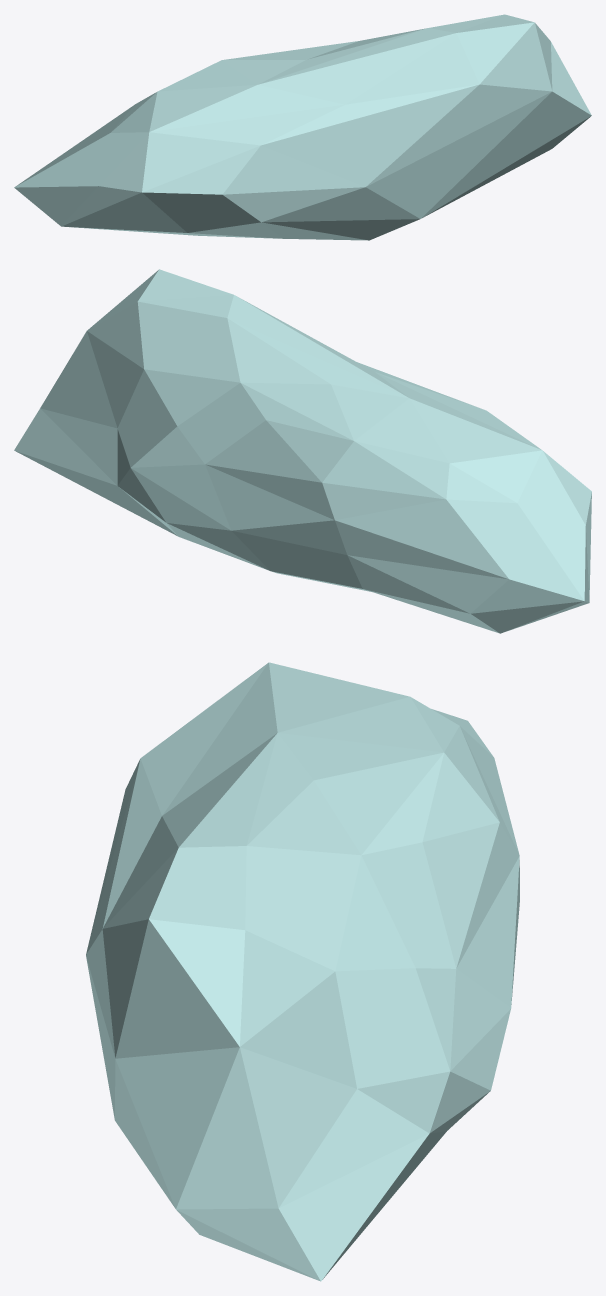
The model's file is cloud-006.glb.
3 renders of one model, top to bottom at view 1: azimuth 30°, elevation 25°; view 2: azimuth 150°, elevation 25°; view 3: azimuth 270°, elevation 25°, orthographic. The views are drawn at different scales.
Parts seen in each view (by area): view 1: cloud 6_29; view 2: cloud 6_29; view 3: cloud 6_29.
Part boxes in pixels (x1,y1,x2,y2): cloud 6_29: [14, 14, 591, 240]; cloud 6_29: [14, 269, 591, 633]; cloud 6_29: [86, 662, 519, 1281].
Bounding box in the file's own units: 1.98 × 0.6678 × 0.7129.
